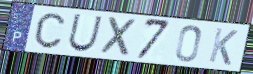0: (174, 24, 204, 63)
7: (134, 17, 172, 62)
C: (33, 11, 67, 50)
K: (207, 26, 240, 67)
U: (66, 12, 105, 53)
X: (99, 15, 140, 58)
